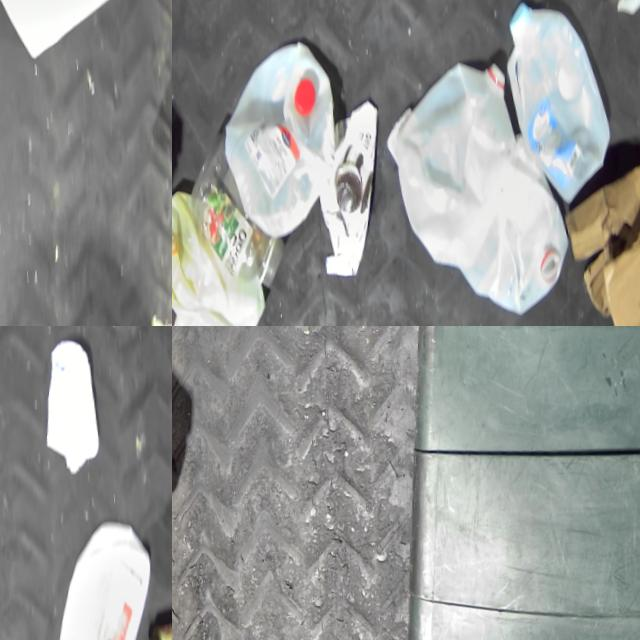milk_jug: (390, 58, 530, 285), (499, 0, 623, 220), (219, 40, 347, 244), (457, 135, 582, 326), (172, 182, 277, 326), (47, 520, 170, 640), (0, 0, 143, 76)
plastic_bottle: (187, 127, 296, 298)
